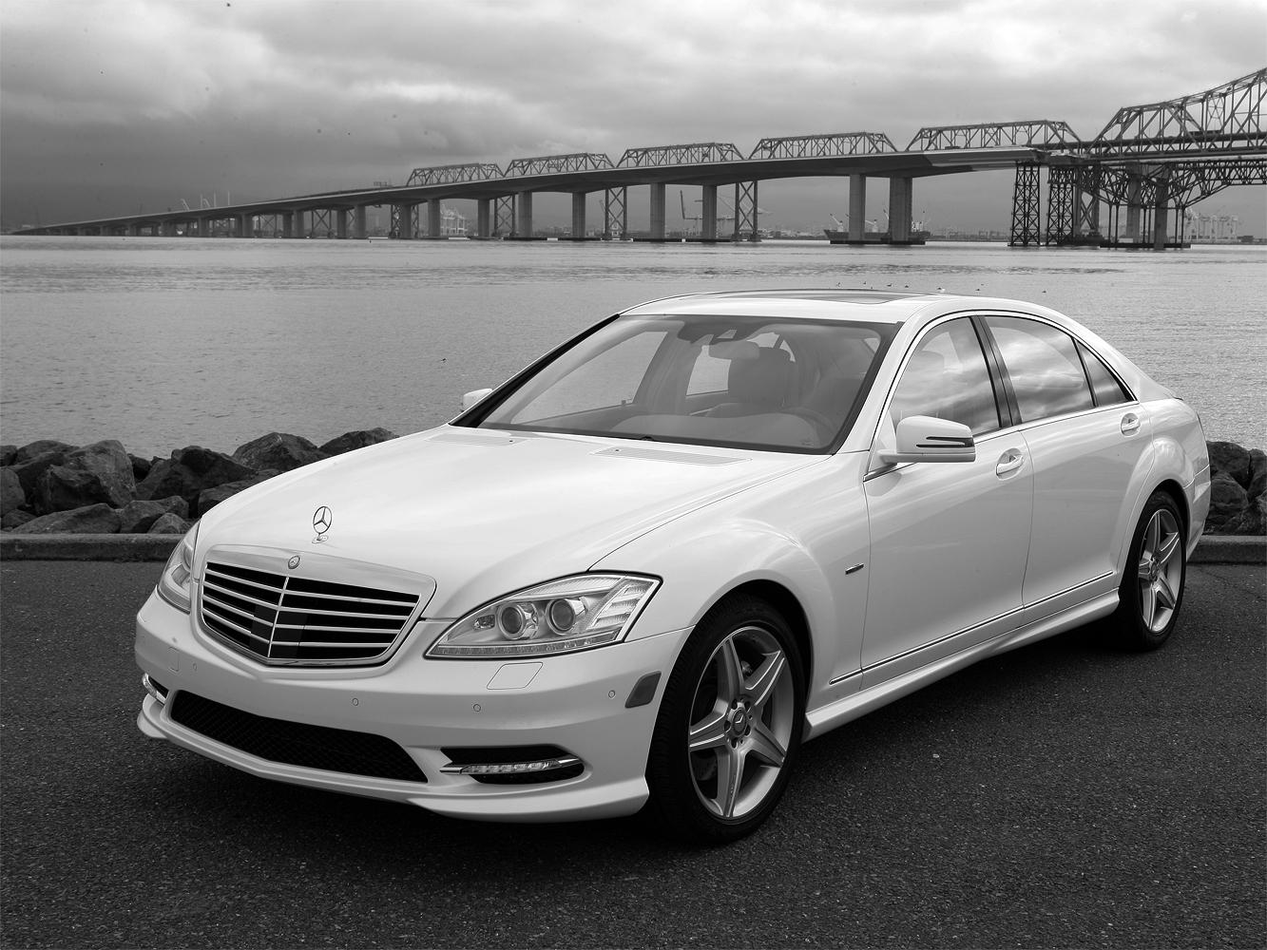car: (125, 286, 1216, 832)
